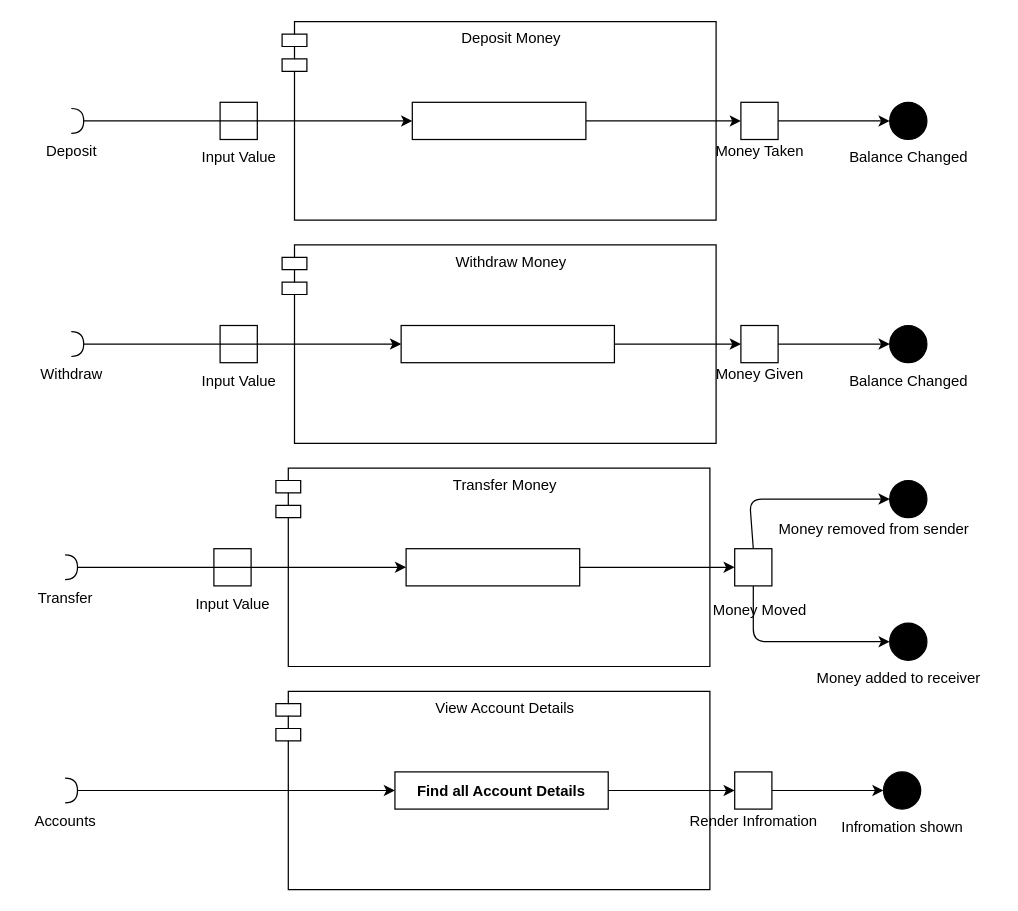
Some shapes in this 1018 by 911 pixel diagram are drawn without their labels. The shapes that lost their labels are listed below. From the top down, each one's centre as x and y in pixels, then its label:
At point (498, 120): "Add Money to Balance".
At point (507, 343): "Take Money From Balance".
At point (492, 566): "Add Money to Receiver".
